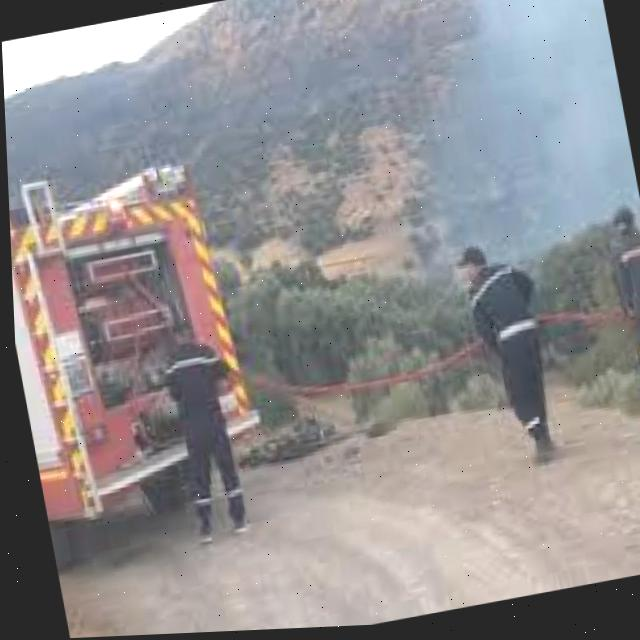emergency: (5, 138, 265, 542)
